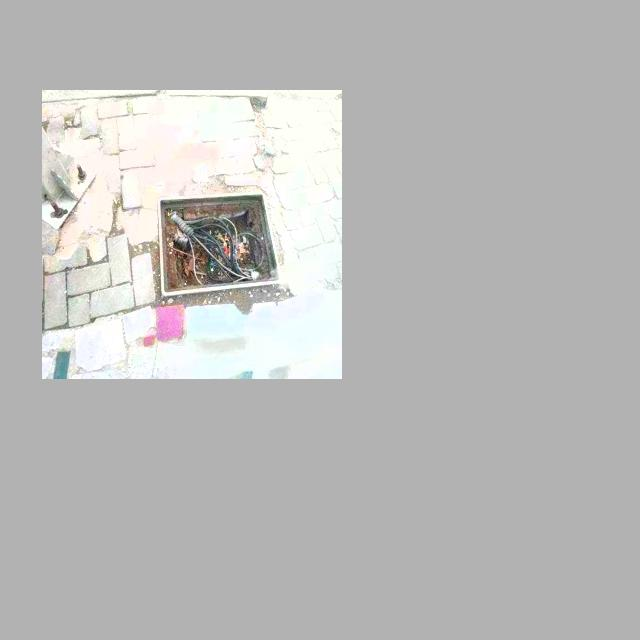lose: (149, 185, 285, 310)
